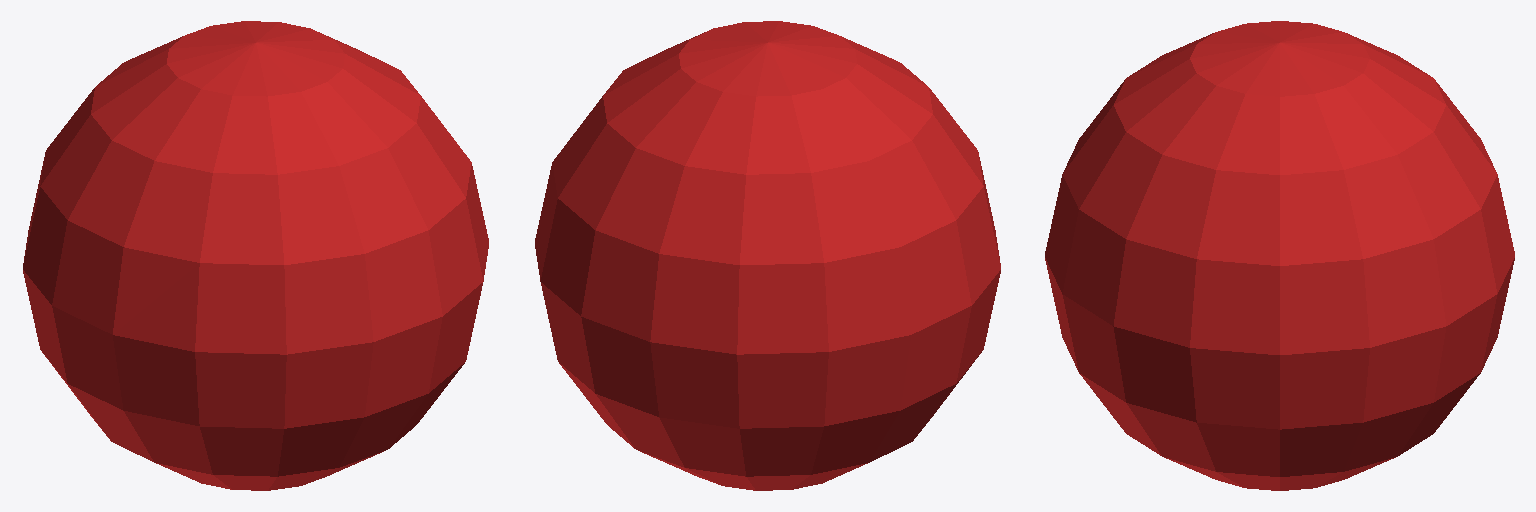
File: ballred.obj
The picture shows the model from 3 angles: view 1: azimuth 30°, elevation 25°; view 2: azimuth 150°, elevation 25°; view 3: azimuth 270°, elevation 25°; orthographic projection.
Parts seen in each view (by area): view 1: Sphere; view 2: Sphere; view 3: Sphere.
Boxes of the visible parts, x1,y1,x2,y2 form: Sphere: [23, 21, 488, 490]; Sphere: [535, 21, 1000, 490]; Sphere: [1045, 21, 1514, 490].
Bounding box in the file's own units: 2 × 2 × 2.